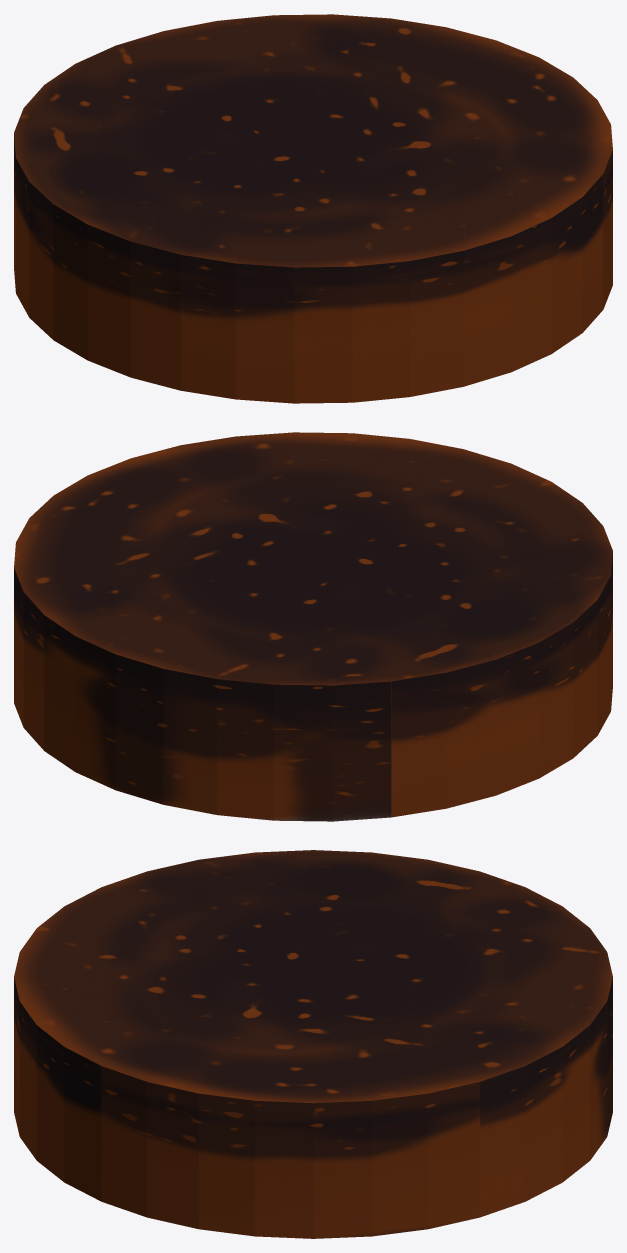
The model's file is Cake.fbx.
3 renders of one model, top to bottom at view 1: azimuth 30°, elevation 25°; view 2: azimuth 150°, elevation 25°; view 3: azimuth 270°, elevation 25°, orthographic.
Visible parts, largest first — view 1: Cylinder; view 2: Cylinder; view 3: Cylinder.
Part boxes in pixels (<box>): Cylinder: <box>14,14,612,403</box>; Cylinder: <box>14,432,612,821</box>; Cylinder: <box>14,850,612,1238</box>.
Size of the model in its own units: 4000 by 1000 by 4000.
